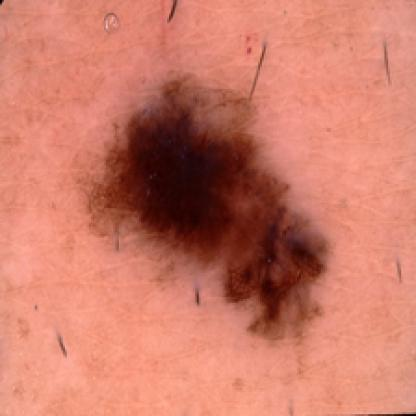malignant: (100, 102, 316, 286)
